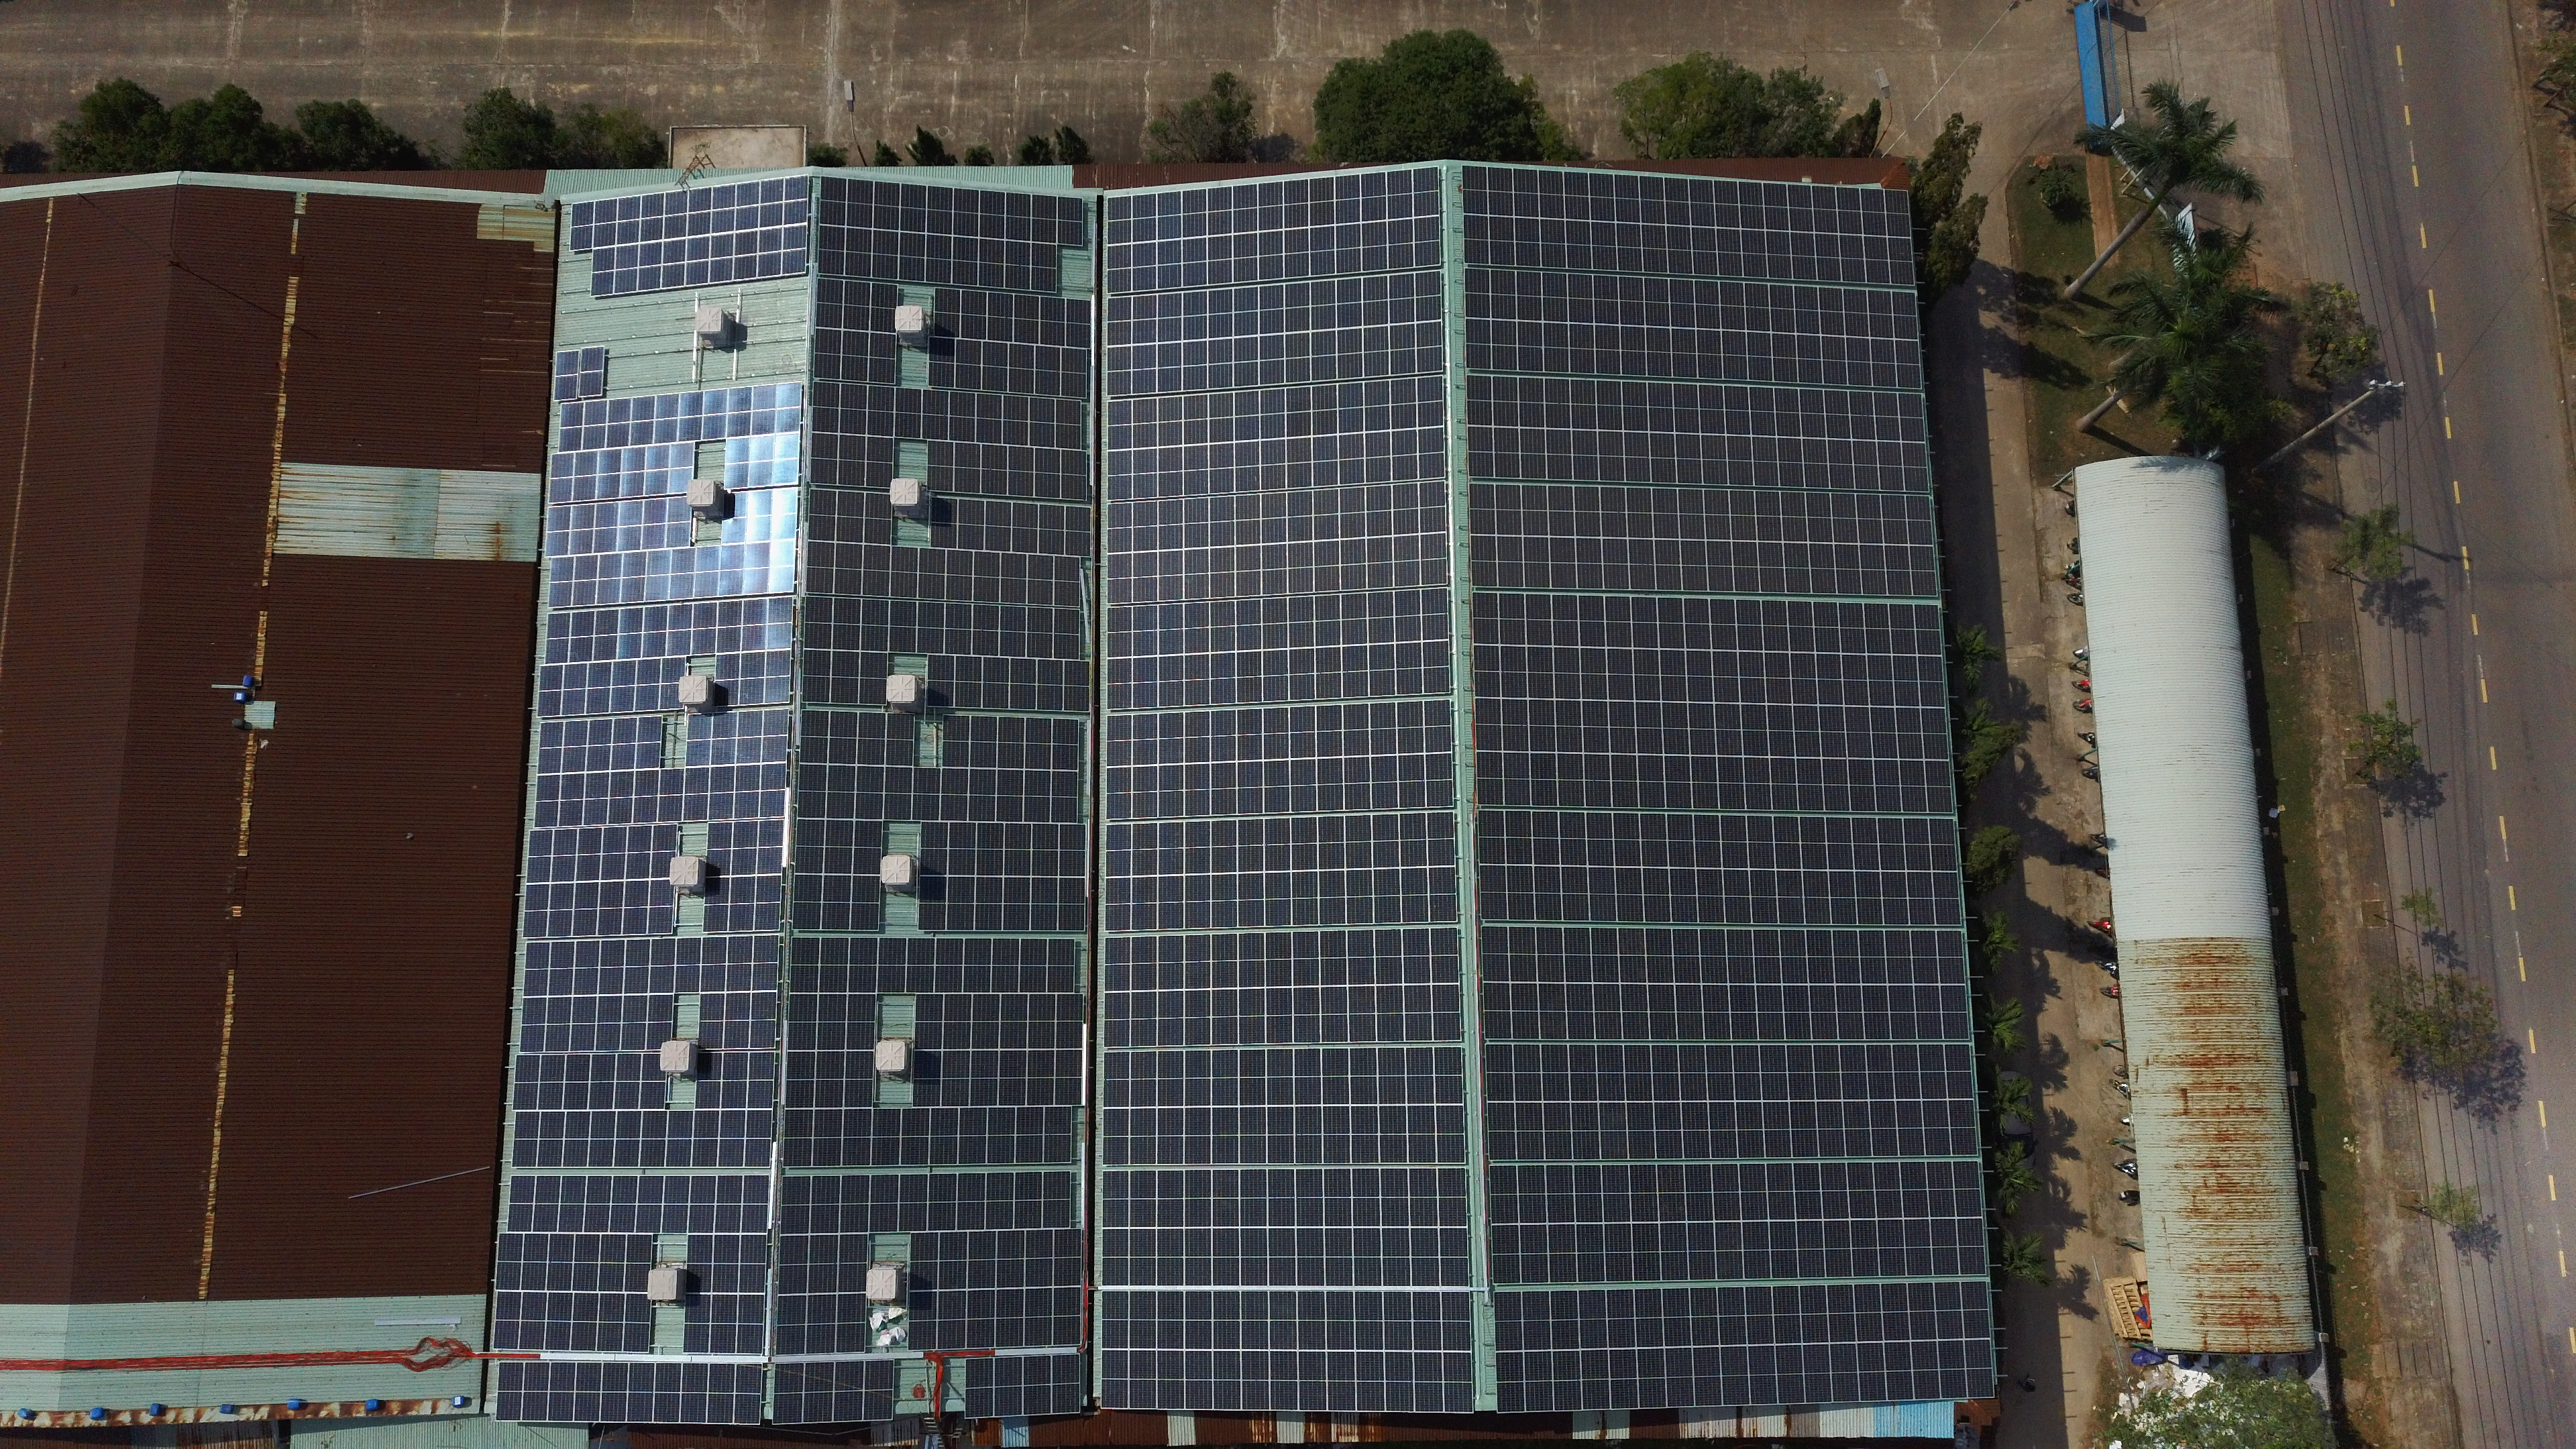solar: (1635, 1345, 1670, 1410), (1576, 1346, 1612, 1410), (1550, 1346, 1583, 1412), (1265, 1290, 1300, 1352), (1293, 1292, 1329, 1353), (1769, 1284, 1805, 1346), (1744, 1343, 1780, 1405), (1826, 1341, 1861, 1403), (777, 1233, 810, 1297), (807, 1233, 840, 1297), (835, 1233, 869, 1297), (908, 1230, 941, 1293), (805, 1292, 839, 1355), (1021, 1286, 1054, 1350), (771, 1362, 805, 1426), (801, 1361, 835, 1424), (832, 1359, 865, 1422), (1323, 1288, 1357, 1352), (1352, 1288, 1385, 1352), (1210, 1348, 1244, 1412), (1238, 1348, 1272, 1412), (1267, 1348, 1300, 1412), (1323, 1348, 1357, 1412), (1353, 1350, 1387, 1414), (1382, 1350, 1415, 1414), (1548, 1288, 1582, 1352), (1633, 1286, 1667, 1350), (1660, 1284, 1693, 1348), (1688, 1286, 1721, 1350), (1606, 1346, 1640, 1410), (1663, 1345, 1697, 1408), (1690, 1345, 1723, 1408), (1718, 1343, 1752, 1407), (1801, 1341, 1835, 1405), (810, 1173, 844, 1235), (839, 1173, 872, 1235), (936, 1230, 970, 1292), (966, 1230, 1000, 1292), (993, 1230, 1026, 1292), (1023, 1228, 1056, 1290), (775, 1293, 809, 1355), (862, 1359, 895, 1421), (962, 1357, 996, 1419), (1405, 1102, 1438, 1164), (1265, 1226, 1299, 1288), (1293, 1226, 1327, 1288), (1382, 1290, 1415, 1352), (1410, 1290, 1444, 1352), (1438, 1290, 1472, 1352), (1760, 1099, 1794, 1161), (1571, 1162, 1605, 1224), (1599, 1162, 1633, 1224), (1626, 1162, 1660, 1224), (1683, 1162, 1716, 1224), (1576, 1288, 1610, 1350), (1605, 1288, 1638, 1350), (1716, 1284, 1750, 1346), (1743, 1284, 1776, 1346), (1932, 1279, 1966, 1341), (1773, 1343, 1806, 1405), (1854, 1341, 1888, 1403), (1882, 1339, 1916, 1401), (1909, 1339, 1943, 1401), (1937, 1338, 1971, 1399), (835, 1292, 867, 1355), (906, 1288, 938, 1352), (994, 1286, 1026, 1350), (1051, 1284, 1083, 1348), (1265, 1166, 1297, 1230), (1322, 1166, 1353, 1230), (1407, 1166, 1438, 1230), (1437, 1166, 1468, 1230), (1323, 1224, 1355, 1288), (1380, 1224, 1412, 1288), (1297, 1348, 1329, 1412), (1414, 1350, 1445, 1414), (1442, 1350, 1474, 1414), (1488, 1162, 1520, 1226), (1545, 1162, 1576, 1226), (1495, 1350, 1527, 1414), (1523, 1350, 1555, 1414), (817, 936, 851, 996), (786, 993, 819, 1053), (814, 993, 847, 1053), (844, 991, 878, 1051), (814, 1049, 847, 1109), (842, 1049, 876, 1109), (939, 1049, 973, 1109), (810, 1108, 844, 1168), (840, 1108, 874, 1168), (1479, 924, 1513, 984), (1727, 982, 1760, 1042), (1594, 1042, 1628, 1102), (1649, 1044, 1683, 1104), (1624, 1100, 1658, 1161), (1709, 1162, 1743, 1223), (1824, 1283, 1858, 1343), (717, 1108, 748, 1169), (741, 1108, 773, 1169), (570, 1231, 602, 1293), (596, 1231, 628, 1293), (736, 1233, 768, 1295), (594, 1292, 626, 1353), (621, 1292, 653, 1353), (681, 1292, 713, 1353), (708, 1292, 740, 1353), (734, 1293, 766, 1355), (494, 1361, 525, 1422), (520, 1361, 552, 1422), (545, 1361, 577, 1422), (571, 1361, 603, 1422), (598, 1361, 630, 1422), (625, 1361, 656, 1422), (651, 1361, 683, 1422), (678, 1362, 709, 1424), (780, 1175, 812, 1237), (869, 1173, 901, 1235), (927, 1171, 959, 1233), (1051, 1226, 1083, 1288), (936, 1288, 968, 1350), (966, 1288, 998, 1350), (993, 1355, 1024, 1417), (1049, 1353, 1081, 1415), (1375, 982, 1407, 1044), (1403, 982, 1435, 1044), (1348, 1104, 1380, 1166), (1210, 1168, 1242, 1230), (1293, 1168, 1325, 1230), (1350, 1166, 1382, 1228), (1210, 1226, 1242, 1288), (1352, 1226, 1384, 1288), (1408, 1226, 1440, 1288), (1438, 1226, 1470, 1288), (1212, 1290, 1244, 1352), (1238, 1290, 1270, 1352), (1099, 1348, 1131, 1410), (1127, 1348, 1159, 1410), (1155, 1348, 1187, 1410), (1539, 1042, 1571, 1104), (1568, 1042, 1599, 1104), (1622, 1042, 1654, 1104), (1571, 1099, 1603, 1161), (1815, 1099, 1847, 1161), (1516, 1162, 1548, 1224), (1656, 1162, 1688, 1224), (1491, 1223, 1523, 1284), (1518, 1223, 1550, 1284), (1548, 1221, 1580, 1283), (1575, 1221, 1606, 1283), (1603, 1221, 1635, 1283), (1631, 1221, 1663, 1283), (1660, 1221, 1691, 1283), (1686, 1219, 1718, 1281), (1713, 1219, 1744, 1281), (1849, 1217, 1881, 1279), (1875, 1217, 1907, 1279), (1902, 1215, 1934, 1277), (1928, 1215, 1960, 1277), (1955, 1215, 1987, 1277), (1522, 1290, 1553, 1352), (1799, 1284, 1831, 1346), (1960, 1279, 1992, 1341), (1964, 1338, 1996, 1399), (685, 1175, 718, 1233), (738, 1175, 771, 1233), (796, 763, 830, 821), (881, 764, 915, 823), (938, 766, 971, 824), (874, 936, 908, 994), (932, 936, 966, 994), (941, 993, 975, 1051), (968, 1049, 1001, 1108), (1790, 702, 1824, 761), (1527, 750, 1560, 809), (1721, 867, 1755, 925), (1619, 982, 1652, 1040), (1645, 982, 1679, 1040), (1672, 982, 1706, 1040), (1700, 982, 1734, 1040), (1806, 984, 1840, 1042), (1859, 984, 1893, 1042), (1937, 982, 1971, 1040), (1785, 1044, 1819, 1102), (1810, 1044, 1844, 1102), (1946, 1097, 1980, 1155), (612, 1109, 644, 1169), (637, 1109, 669, 1169), (663, 1109, 695, 1169), (690, 1108, 722, 1168), (660, 1175, 692, 1235), (713, 1175, 745, 1235), (494, 1231, 525, 1292), (518, 1231, 550, 1292), (545, 1233, 577, 1293), (621, 1233, 653, 1293), (683, 1233, 715, 1293), (709, 1233, 741, 1293), (789, 936, 821, 996), (913, 993, 945, 1053), (970, 991, 1001, 1051), (784, 1051, 816, 1111), (911, 1049, 943, 1109), (996, 1049, 1028, 1109), (1053, 1047, 1085, 1108), (782, 1108, 814, 1168), (870, 1108, 902, 1168), (899, 1108, 931, 1168), (929, 1106, 961, 1166), (957, 1106, 989, 1166), (985, 1106, 1017, 1166), (1014, 1106, 1046, 1166), (897, 1173, 929, 1233), (955, 1173, 987, 1233), (984, 1171, 1016, 1231), (1012, 1171, 1044, 1231), (1040, 1169, 1072, 1230), (1021, 1355, 1053, 1415), (1318, 984, 1350, 1044), (1346, 984, 1378, 1044), (1430, 982, 1461, 1042), (1265, 1047, 1297, 1108), (1292, 1047, 1323, 1108), (1320, 1047, 1352, 1108), (1348, 1046, 1380, 1106), (1405, 1046, 1437, 1106), (1433, 1046, 1465, 1106), (1265, 1104, 1297, 1164), (1322, 1104, 1353, 1164), (1376, 1104, 1408, 1164), (1435, 1104, 1467, 1164), (1182, 1169, 1214, 1230), (1506, 925, 1537, 985), (1562, 924, 1594, 984), (1615, 925, 1647, 985), (1755, 982, 1787, 1042), (1677, 1044, 1709, 1104), (1704, 1042, 1736, 1102), (1732, 1044, 1764, 1104), (1759, 1044, 1790, 1104), (1486, 1100, 1518, 1161), (1514, 1100, 1546, 1161), (1543, 1100, 1575, 1161), (1598, 1100, 1629, 1161), (1652, 1100, 1684, 1161), (1679, 1099, 1711, 1159), (1706, 1099, 1737, 1159), (1734, 1099, 1766, 1159), (1789, 1099, 1821, 1159), (1842, 1099, 1874, 1159), (1868, 1099, 1900, 1159), (1895, 1099, 1927, 1159), (1792, 1161, 1824, 1221), (1898, 1159, 1930, 1219), (1767, 1219, 1799, 1279), (1822, 1219, 1854, 1279), (1493, 1290, 1523, 1353), (1852, 1283, 1884, 1343), (1881, 1283, 1913, 1343), (1905, 1281, 1937, 1341), (833, 488, 867, 545), (909, 766, 943, 823), (1021, 768, 1054, 824), (851, 819, 885, 876), (973, 821, 1007, 878), (791, 874, 824, 931), (847, 874, 881, 931), (916, 874, 950, 931), (904, 936, 938, 993), (961, 938, 994, 994), (1766, 702, 1799, 759), (1474, 750, 1507, 807), (1741, 755, 1775, 812), (1845, 757, 1879, 814), (1829, 929, 1863, 985), (1882, 929, 1916, 985), (518, 1290, 548, 1352), (543, 1292, 573, 1353), (570, 1290, 600, 1352), (706, 1362, 736, 1424), (732, 1362, 763, 1424), (1182, 1104, 1212, 1166), (1238, 1104, 1269, 1166), (1238, 1168, 1269, 1230), (1380, 1166, 1410, 1228), (1100, 1226, 1131, 1288), (1127, 1226, 1157, 1288), (1155, 1226, 1185, 1288), (1184, 1226, 1214, 1288), (1238, 1226, 1269, 1288), (1184, 1348, 1214, 1410), (1741, 1219, 1771, 1281), (612, 1053, 644, 1111), (637, 1053, 669, 1111), (692, 1053, 724, 1111), (718, 1051, 750, 1109), (557, 1175, 589, 1233), (582, 1175, 614, 1233), (633, 1175, 665, 1233), (801, 648, 833, 706), (800, 708, 832, 766), (824, 763, 856, 821), (853, 763, 885, 821), (945, 874, 977, 932), (973, 874, 1005, 932), (847, 936, 879, 994), (998, 993, 1030, 1051), (1026, 993, 1058, 1051), (1042, 1104, 1074, 1162), (1424, 809, 1456, 867), (1426, 865, 1458, 924), (1182, 932, 1214, 991), (1318, 929, 1350, 987), (1345, 929, 1376, 987), (1373, 927, 1405, 985), (1401, 927, 1433, 985), (1237, 985, 1269, 1044), (1263, 985, 1295, 1044), (1292, 985, 1323, 1044), (1500, 750, 1532, 809), (1608, 752, 1640, 810), (1637, 752, 1668, 810), (1794, 755, 1826, 814), (1504, 809, 1536, 867), (1612, 810, 1644, 869), (1638, 810, 1670, 869), (1771, 814, 1803, 872), (1798, 814, 1829, 872), (1875, 816, 1907, 874), (1479, 863, 1511, 922), (1504, 863, 1536, 922), (1587, 865, 1619, 924), (1748, 867, 1780, 925), (1801, 869, 1833, 927), (1828, 869, 1859, 927), (1852, 869, 1884, 927), (1879, 869, 1911, 927), (1534, 925, 1566, 984), (1589, 925, 1621, 984), (1644, 927, 1675, 985), (1672, 927, 1704, 985), (1697, 927, 1729, 985), (1778, 927, 1810, 985), (1805, 927, 1836, 985), (1591, 982, 1622, 1040), (1782, 982, 1813, 1040), (1835, 982, 1867, 1040), (1886, 982, 1918, 1040), (1913, 982, 1944, 1040), (1838, 1044, 1870, 1102), (1865, 1044, 1897, 1102), (1890, 1044, 1921, 1102), (1916, 1044, 1948, 1102), (1943, 1042, 1974, 1100), (1921, 1099, 1953, 1157), (1951, 1159, 1983, 1217), (916, 547, 950, 602), (943, 547, 977, 602), (924, 653, 957, 708), (952, 655, 985, 709), (855, 711, 888, 766), (883, 711, 916, 766), (994, 717, 1028, 771), (1021, 717, 1054, 771), (1518, 483, 1552, 538), (621, 878, 651, 938), (646, 876, 676, 936), (644, 993, 674, 1053), (533, 1175, 563, 1235), (609, 1175, 639, 1235), (492, 1292, 522, 1352), (1054, 993, 1085, 1053), (1292, 929, 1322, 989), (1102, 1049, 1132, 1109), (1155, 1049, 1185, 1109), (1210, 1047, 1240, 1108), (1238, 1047, 1269, 1108), (1376, 1046, 1407, 1106), (1155, 1106, 1185, 1166), (1210, 1106, 1240, 1166), (1293, 1104, 1323, 1164), (1155, 1169, 1185, 1230), (1100, 1292, 1131, 1352), (1127, 1292, 1157, 1352), (1155, 1290, 1185, 1350), (1184, 1290, 1214, 1350), (1483, 980, 1513, 1040), (1511, 982, 1541, 1042), (1537, 982, 1568, 1042), (1484, 1042, 1514, 1102), (1766, 1161, 1796, 1221), (1796, 1219, 1826, 1279), (524, 828, 556, 885), (729, 819, 761, 876), (809, 430, 840, 487), (837, 433, 869, 490), (805, 540, 837, 596), (888, 545, 920, 602), (803, 594, 835, 651), (832, 596, 863, 653), (970, 602, 1001, 658), (966, 766, 998, 823), (994, 768, 1026, 824), (794, 817, 826, 874), (823, 819, 855, 876), (918, 821, 950, 878), (947, 821, 978, 878), (1001, 821, 1033, 878), (821, 874, 853, 931), (1001, 876, 1033, 932), (1028, 876, 1060, 932), (1056, 876, 1088, 932), (1017, 938, 1049, 994), (1046, 938, 1077, 994), (1396, 752, 1428, 809), (1398, 812, 1430, 869), (1129, 874, 1161, 931), (1182, 874, 1214, 931), (1371, 867, 1403, 924), (1543, 426, 1575, 483), (1467, 481, 1499, 538), (1707, 596, 1739, 653), (1759, 598, 1790, 655), (1578, 646, 1610, 702), (1684, 648, 1716, 704), (1709, 649, 1741, 706), (1762, 649, 1794, 706), (1787, 649, 1819, 706), (1500, 697, 1532, 754), (1606, 699, 1638, 755), (1713, 701, 1744, 757), (1739, 702, 1771, 759), (1817, 704, 1849, 761), (1842, 704, 1874, 761), (1555, 752, 1587, 809), (1582, 752, 1614, 809), (1663, 754, 1695, 810), (1690, 754, 1721, 810), (1714, 754, 1746, 810), (1767, 755, 1799, 812), (1821, 757, 1852, 814), (1872, 757, 1904, 814), (1898, 757, 1930, 814), (1530, 810, 1562, 867), (1557, 810, 1589, 867), (1583, 810, 1615, 867), (1665, 812, 1697, 869), (1691, 812, 1723, 869), (1720, 814, 1752, 870), (1744, 814, 1776, 870), (1824, 816, 1856, 872), (1851, 816, 1882, 872), (1902, 816, 1934, 872), (1927, 816, 1959, 872), (1614, 865, 1645, 922), (1667, 867, 1698, 924), (1695, 867, 1727, 924), (1775, 869, 1806, 925), (1727, 929, 1759, 985), (1752, 929, 1783, 985), (1858, 929, 1890, 985), (1907, 929, 1939, 985), (1936, 929, 1967, 985), (1771, 386, 1805, 439), (1821, 387, 1854, 441), (764, 594, 794, 653), (732, 763, 763, 821), (757, 761, 787, 819), (598, 824, 628, 883), (649, 823, 679, 881), (571, 879, 602, 938), (704, 819, 734, 878), (755, 817, 786, 876), (752, 874, 782, 932), (543, 996, 573, 1054), (619, 994, 649, 1053), (697, 991, 727, 1049), (722, 991, 752, 1049), (511, 1054, 541, 1113), (536, 1054, 566, 1113), (587, 1053, 617, 1111), (747, 1051, 777, 1109), (563, 1109, 593, 1168), (587, 1109, 617, 1168), (506, 1175, 536, 1233), (1024, 1049, 1054, 1108), (1422, 697, 1453, 755), (1316, 814, 1346, 872), (1371, 812, 1401, 870), (1318, 869, 1348, 927), (1102, 936, 1132, 994), (1210, 932, 1240, 991), (1237, 931, 1267, 989), (1430, 927, 1460, 985), (1102, 991, 1132, 1049), (1155, 989, 1185, 1047), (1210, 987, 1240, 1046), (1182, 1049, 1212, 1108), (1527, 697, 1557, 755), (1553, 697, 1583, 755), (1477, 809, 1507, 867), (1566, 982, 1596, 1040), (1513, 1044, 1543, 1102), (1737, 1162, 1767, 1221), (1821, 1162, 1851, 1221), (1845, 1161, 1875, 1219), (1874, 1161, 1904, 1219), (1925, 1161, 1955, 1219), (814, 276, 846, 331), (812, 327, 844, 382), (865, 382, 897, 437), (892, 386, 924, 441), (920, 389, 952, 444), (947, 389, 978, 444), (863, 435, 895, 490), (807, 488, 839, 543), (862, 492, 893, 547), (955, 497, 987, 552), (1008, 501, 1040, 556), (1035, 502, 1067, 557), (1062, 504, 1093, 559), (833, 541, 865, 596), (860, 543, 892, 598), (1023, 552, 1054, 607), (860, 598, 892, 653), (915, 602, 947, 656), (943, 602, 975, 656), (996, 603, 1028, 658), (980, 655, 1012, 709), (828, 711, 860, 766), (968, 715, 1000, 770), (1049, 717, 1081, 771), (1030, 823, 1062, 878), (1056, 823, 1088, 878), (1649, 487, 1681, 541), (1727, 488, 1759, 543), (1546, 536, 1578, 591), (1599, 536, 1631, 591), (1626, 538, 1658, 593), (1651, 536, 1683, 591), (1730, 540, 1762, 594), (1656, 596, 1688, 651), (1785, 600, 1817, 655), (1810, 600, 1842, 655), (1472, 644, 1504, 699), (1499, 644, 1530, 699), (1631, 648, 1663, 702), (1865, 653, 1897, 708), (1868, 706, 1900, 761), (1893, 706, 1925, 761), (1920, 706, 1951, 761), (1640, 867, 1672, 922), (1587, 221, 1621, 272), (740, 596, 770, 653), (550, 828, 580, 885), (573, 826, 603, 883), (702, 874, 731, 934), (729, 874, 757, 934), (596, 939, 626, 996), (621, 938, 651, 994), (648, 938, 678, 994), (672, 938, 702, 994), (750, 934, 780, 991), (510, 1111, 540, 1168), (536, 1111, 566, 1168), (830, 649, 860, 706), (941, 713, 971, 770), (991, 938, 1021, 994), (1339, 591, 1369, 648), (1394, 640, 1424, 697), (1396, 699, 1426, 755), (1235, 759, 1265, 816), (1424, 752, 1454, 809), (1131, 821, 1161, 878), (1184, 819, 1214, 876), (1263, 816, 1293, 872), (1290, 816, 1320, 872), (1345, 814, 1375, 870), (1155, 874, 1185, 931), (1210, 872, 1240, 929), (1235, 872, 1265, 929), (1263, 870, 1293, 927), (1290, 870, 1320, 927), (1345, 869, 1375, 925), (1399, 867, 1430, 924), (1155, 934, 1185, 991), (1184, 989, 1214, 1046), (1129, 1049, 1157, 1109), (1102, 1106, 1131, 1166), (1129, 1106, 1157, 1166), (1102, 1169, 1131, 1230), (1129, 1169, 1157, 1230), (1518, 425, 1548, 481), (1622, 428, 1652, 485), (1647, 430, 1677, 487), (1468, 533, 1499, 589), (1495, 533, 1525, 589), (1472, 591, 1502, 648), (1499, 591, 1529, 648), (1523, 591, 1553, 648), (1550, 593, 1580, 649), (1576, 593, 1606, 649), (1683, 596, 1713, 653), (1736, 598, 1766, 655), (1525, 644, 1555, 701), (1552, 646, 1582, 702), (1605, 646, 1635, 702), (1658, 648, 1688, 704), (1737, 649, 1767, 706), (1815, 651, 1845, 708), (1580, 699, 1610, 755), (1633, 699, 1663, 755), (1661, 701, 1691, 757), (1686, 701, 1716, 757), (1532, 865, 1562, 922), (1560, 865, 1591, 922), (957, 288, 989, 341), (984, 292, 1016, 345), (1010, 294, 1042, 347), (952, 338, 984, 391), (1031, 345, 1063, 398), (945, 389, 977, 442), (1000, 395, 1031, 448), (929, 497, 961, 550), (982, 499, 1014, 552), (1359, 219, 1391, 272), (1737, 226, 1769, 280), (1762, 228, 1794, 281), (1695, 382, 1727, 435), (1798, 387, 1829, 441), (1697, 433, 1729, 487), (1826, 437, 1858, 490), (1851, 439, 1882, 492), (1573, 485, 1605, 538), (1545, 483, 1576, 536), (1598, 487, 1629, 540), (1622, 487, 1654, 540), (1674, 488, 1706, 541), (1702, 488, 1734, 541), (1704, 540, 1736, 593), (1782, 541, 1813, 594), (1806, 541, 1838, 594), (1913, 602, 1944, 655), (625, 824, 653, 883), (596, 878, 625, 936), (522, 941, 550, 1000), (699, 936, 727, 994), (518, 996, 547, 1054), (570, 994, 598, 1053), (594, 994, 623, 1053), (748, 991, 777, 1049), (563, 1053, 591, 1111), (1157, 819, 1185, 878), (1265, 931, 1293, 989), (1131, 989, 1159, 1047), (709, 711, 740, 766), (761, 708, 791, 763), (706, 764, 736, 819), (869, 280, 899, 334), (980, 338, 1010, 393), (810, 380, 840, 435), (839, 382, 869, 437), (952, 441, 982, 495), (980, 442, 1010, 497), (1007, 444, 1037, 499), (971, 550, 1001, 605), (998, 550, 1028, 605), (888, 598, 918, 653), (858, 651, 888, 706), (1008, 656, 1039, 711), (1062, 658, 1092, 713), (1049, 770, 1079, 824), (1283, 280, 1313, 334), (1307, 278, 1338, 333), (1334, 276, 1364, 331), (1307, 329, 1338, 384), (1336, 326, 1366, 380), (1414, 318, 1444, 373), (1362, 379, 1392, 433), (1415, 425, 1445, 479), (1182, 547, 1212, 602), (1207, 545, 1237, 600), (1260, 541, 1290, 596), (1208, 600, 1238, 655), (1233, 598, 1263, 653), (1260, 596, 1290, 651), (1286, 594, 1316, 649), (1313, 593, 1343, 648), (1366, 591, 1396, 646), (1419, 587, 1449, 642), (1208, 649, 1238, 704), (1235, 649, 1265, 704), (1261, 648, 1292, 702), (1421, 639, 1451, 694), (1182, 709, 1212, 764), (1208, 708, 1238, 763), (1235, 708, 1265, 763), (1261, 706, 1292, 761), (1288, 706, 1318, 761), (1315, 704, 1345, 759), (1341, 702, 1371, 757), (1368, 702, 1398, 757), (1131, 764, 1161, 819), (1208, 761, 1238, 816), (1369, 755, 1399, 810), (1785, 180, 1815, 235), (1461, 211, 1491, 265), (1539, 271, 1569, 326), (1591, 272, 1621, 327), (1667, 276, 1697, 331), (1691, 278, 1721, 333), (1463, 317, 1493, 372), (1490, 317, 1520, 372), (1514, 318, 1545, 373), (1541, 320, 1571, 375), (1592, 322, 1622, 377), (1668, 326, 1698, 380), (1568, 377, 1598, 432), (1594, 379, 1624, 433), (1621, 380, 1651, 435), (1645, 380, 1675, 435), (1571, 428, 1601, 483), (1596, 428, 1626, 483), (1674, 432, 1704, 487), (1875, 439, 1905, 494), (1879, 492, 1909, 547), (1522, 534, 1552, 589), (1575, 536, 1605, 591), (1679, 538, 1709, 593), (1603, 594, 1633, 649), (1629, 594, 1660, 649), (1840, 653, 1870, 708), (1891, 653, 1921, 708), (1916, 655, 1946, 709), (1925, 759, 1955, 814), (1907, 870, 1937, 925), (1932, 870, 1962, 925), (816, 225, 847, 276), (977, 237, 1008, 288), (1026, 396, 1058, 448), (1332, 223, 1364, 274), (1810, 184, 1842, 235), (1858, 186, 1890, 237), (1614, 221, 1645, 272), (1865, 288, 1897, 340), (1890, 290, 1921, 341), (1769, 333, 1801, 384), (715, 598, 743, 655), (547, 941, 575, 998), (571, 939, 600, 996), (725, 934, 754, 991), (1106, 764, 1134, 821), (1157, 763, 1185, 819), (1184, 761, 1212, 817), (1263, 757, 1292, 814), (1290, 757, 1318, 814), (1316, 755, 1345, 812), (1343, 755, 1371, 812), (1104, 823, 1132, 879), (1210, 817, 1238, 874), (1237, 817, 1265, 874), (1104, 876, 1132, 932), (1131, 936, 1159, 993), (872, 180, 902, 234), (899, 182, 929, 235), (952, 186, 982, 239), (977, 189, 1007, 242), (1003, 191, 1033, 244), (1054, 193, 1085, 246), (870, 228, 901, 281), (897, 230, 927, 283), (924, 234, 954, 287), (950, 234, 980, 287), (1003, 239, 1033, 292), (842, 280, 872, 333), (932, 287, 962, 340), (1039, 294, 1069, 347), (1063, 297, 1093, 350), (840, 331, 870, 384), (867, 333, 897, 386), (927, 336, 957, 389), (1007, 343, 1037, 396), (1058, 347, 1088, 400), (1053, 398, 1083, 451), (1033, 446, 1063, 499), (1058, 449, 1088, 502), (1024, 605, 1054, 658), (1051, 607, 1081, 660), (1035, 658, 1065, 711), (1410, 166, 1440, 219), (1385, 218, 1415, 271), (1412, 214, 1442, 267), (1155, 292, 1185, 345), (1180, 288, 1210, 341), (1205, 287, 1235, 340), (1361, 274, 1391, 327), (1387, 272, 1417, 326), (1414, 269, 1444, 322), (1180, 338, 1210, 391), (1205, 336, 1235, 389), (1256, 333, 1286, 386), (1283, 331, 1313, 384), (1387, 322, 1417, 375), (1389, 377, 1419, 430), (1311, 433, 1341, 487), (1362, 430, 1392, 483), (1389, 428, 1419, 481), (1233, 545, 1263, 598), (1460, 165, 1490, 218), (1486, 166, 1516, 219), (1587, 172, 1617, 225), (1612, 172, 1642, 225), (1663, 175, 1693, 228), (1688, 177, 1718, 230), (1713, 177, 1743, 230), (1737, 179, 1767, 232), (1488, 214, 1518, 267), (1513, 216, 1543, 269), (1537, 218, 1568, 271), (1690, 225, 1720, 278), (1463, 267, 1493, 320), (1488, 269, 1518, 322), (1513, 269, 1543, 322), (1566, 272, 1596, 326), (1617, 274, 1647, 327), (1642, 276, 1672, 329), (1718, 280, 1748, 333), (1743, 281, 1773, 334), (1766, 283, 1796, 336), (1792, 283, 1822, 336), (1840, 287, 1870, 340), (1568, 322, 1598, 375), (1619, 324, 1649, 377), (1644, 326, 1674, 379), (1695, 327, 1725, 380), (1720, 329, 1750, 382), (1744, 331, 1775, 384), (1672, 382, 1702, 435), (1721, 384, 1752, 437), (1847, 389, 1877, 442), (1465, 425, 1495, 478), (1698, 433, 1729, 487), (1725, 433, 1755, 487), (1750, 435, 1780, 488), (1776, 435, 1806, 488), (1801, 437, 1831, 490), (1493, 483, 1523, 536), (1753, 490, 1783, 543), (1778, 490, 1808, 543), (1805, 492, 1835, 545), (1829, 492, 1859, 545), (1854, 492, 1884, 545), (1904, 494, 1934, 547), (1757, 541, 1787, 594), (1835, 543, 1865, 596), (1859, 543, 1890, 596), (1884, 545, 1914, 598), (1907, 545, 1937, 598), (1838, 602, 1868, 655), (1863, 602, 1893, 655), (1888, 603, 1918, 656), (665, 603, 694, 658), (536, 663, 564, 718), (561, 662, 589, 717), (561, 720, 589, 775), (586, 718, 614, 773), (610, 717, 639, 771), (635, 715, 663, 770), (736, 709, 764, 764), (607, 770, 635, 824), (683, 766, 711, 821), (522, 883, 550, 938), (547, 881, 575, 936), (743, 541, 771, 596), (1233, 389, 1261, 444), (1284, 384, 1313, 439), (1311, 382, 1339, 437), (1157, 497, 1185, 552), (1392, 481, 1421, 536), (1313, 538, 1341, 593), (1339, 536, 1368, 591), (1419, 531, 1447, 586), (1392, 534, 1421, 589), (1157, 602, 1185, 656), (1394, 589, 1422, 644), (1131, 655, 1159, 709), (1157, 653, 1185, 708), (1288, 648, 1316, 702), (1315, 646, 1343, 701), (1341, 644, 1369, 699), (1368, 642, 1396, 697), (1104, 713, 1132, 768), (1131, 713, 1159, 768), (1157, 711, 1185, 766), (1465, 373, 1493, 428), (1518, 375, 1546, 430), (1543, 377, 1571, 432), (1476, 697, 1504, 752), (683, 715, 713, 766), (925, 184, 955, 235), (842, 228, 872, 280), (975, 393, 1005, 444), (925, 441, 955, 492), (1104, 195, 1134, 246), (1205, 186, 1235, 237), (1536, 170, 1566, 221), (1882, 188, 1913, 239), (1564, 219, 1594, 271), (1640, 223, 1670, 274), (1665, 225, 1695, 276), (1714, 226, 1744, 278), (1789, 230, 1819, 281), (1838, 234, 1868, 285), (1863, 234, 1893, 285), (1884, 235, 1914, 287), (1817, 287, 1847, 338), (1868, 336, 1898, 387), (1893, 338, 1923, 389), (1872, 391, 1902, 442), (1897, 391, 1927, 442), (1900, 441, 1930, 492), (639, 191, 667, 244), (725, 386, 754, 439), (750, 384, 778, 437), (619, 446, 648, 499), (616, 499, 644, 552), (547, 556, 575, 609), (644, 550, 672, 603), (640, 605, 669, 658), (690, 602, 718, 655), (586, 660, 614, 713), (609, 660, 637, 713), (633, 658, 662, 711), (658, 656, 686, 709), (713, 653, 741, 706), (738, 651, 766, 704), (763, 649, 791, 702), (536, 722, 564, 775), (533, 775, 561, 828), (582, 771, 610, 824), (819, 175, 847, 228), (846, 177, 874, 230), (1030, 191, 1058, 244), (1053, 556, 1081, 609), (1131, 193, 1159, 246), (1155, 191, 1184, 244), (1180, 188, 1208, 241), (1231, 182, 1260, 235), (1256, 180, 1284, 234), (1283, 177, 1311, 230), (1307, 175, 1336, 228), (1334, 172, 1362, 225), (1385, 168, 1414, 221), (1131, 241, 1159, 294), (1155, 239, 1184, 292), (1182, 235, 1210, 288), (1207, 234, 1235, 287), (1231, 230, 1260, 283), (1256, 228, 1284, 281), (1283, 226, 1311, 280), (1307, 225, 1336, 278), (1231, 285, 1260, 338), (1258, 283, 1286, 336), (1231, 334, 1260, 387), (1362, 326, 1391, 379), (1157, 395, 1185, 448), (1258, 387, 1286, 441), (1338, 382, 1366, 435), (1415, 375, 1444, 428), (1157, 444, 1185, 497), (1182, 442, 1210, 495), (1233, 439, 1261, 492), (1260, 439, 1288, 492), (1284, 435, 1313, 488), (1338, 432, 1366, 485), (1182, 497, 1210, 550), (1233, 494, 1261, 547), (1260, 492, 1288, 545), (1284, 490, 1313, 543), (1313, 488, 1341, 541), (1338, 487, 1366, 540), (1364, 485, 1392, 538), (1157, 548, 1185, 602), (1286, 541, 1315, 594), (1366, 536, 1394, 589), (1106, 605, 1134, 658), (1131, 605, 1159, 658), (1182, 602, 1210, 655), (1182, 653, 1210, 706), (1513, 166, 1541, 219), (1762, 179, 1790, 232), (1796, 333, 1824, 386), (1845, 334, 1874, 387), (1748, 384, 1776, 437), (1493, 425, 1522, 478), (1835, 186, 1865, 235), (757, 225, 784, 280), (768, 540, 794, 594), (658, 768, 685, 823), (1419, 479, 1445, 534), (1491, 375, 1518, 430), (591, 198, 619, 249), (662, 189, 690, 241), (571, 554, 600, 605), (669, 548, 697, 600), (1030, 242, 1058, 294), (1361, 172, 1389, 223), (1106, 242, 1134, 294), (1131, 294, 1159, 345), (1155, 341, 1184, 393), (1106, 400, 1134, 451), (1131, 398, 1159, 449), (1182, 395, 1210, 446), (1132, 448, 1161, 499), (1106, 502, 1134, 554), (1131, 501, 1159, 552), (1106, 552, 1134, 603), (1131, 550, 1159, 602), (1562, 170, 1591, 221), (1638, 175, 1667, 226), (1813, 230, 1842, 281), (1821, 334, 1849, 386), (616, 195, 642, 248), (686, 186, 713, 239), (734, 180, 761, 234), (759, 177, 786, 230), (782, 173, 809, 226), (782, 223, 809, 276), (704, 387, 731, 441), (775, 382, 801, 435), (548, 451, 575, 504), (571, 449, 598, 502), (644, 444, 671, 497), (724, 437, 750, 490), (570, 502, 596, 556), (593, 501, 619, 554), (642, 497, 669, 550), (722, 492, 748, 545), (596, 552, 623, 605), (545, 610, 571, 663), (568, 610, 594, 663), (617, 607, 644, 660), (559, 773, 586, 826), (633, 770, 660, 823), (1208, 391, 1235, 444), (1106, 448, 1132, 501), (1208, 441, 1235, 494), (1208, 495, 1235, 548), (1106, 656, 1132, 709), (557, 402, 586, 451), (711, 184, 738, 235), (589, 246, 616, 297), (637, 241, 663, 292), (685, 234, 711, 285), (552, 350, 579, 402), (579, 345, 605, 396), (607, 396, 633, 448), (630, 395, 656, 446), (653, 393, 679, 444), (596, 448, 623, 499), (669, 442, 695, 494), (750, 435, 777, 487), (773, 433, 800, 485), (545, 506, 571, 557), (667, 497, 694, 548), (747, 490, 773, 541), (771, 488, 798, 540), (621, 552, 648, 603), (694, 547, 720, 598), (720, 543, 747, 594), (593, 610, 619, 662), (1106, 295, 1132, 347), (1106, 345, 1132, 396), (1131, 343, 1157, 395), (614, 244, 640, 294), (708, 234, 734, 283), (582, 400, 609, 449), (678, 391, 702, 444), (662, 237, 686, 288), (732, 230, 757, 281), (570, 202, 594, 251)
